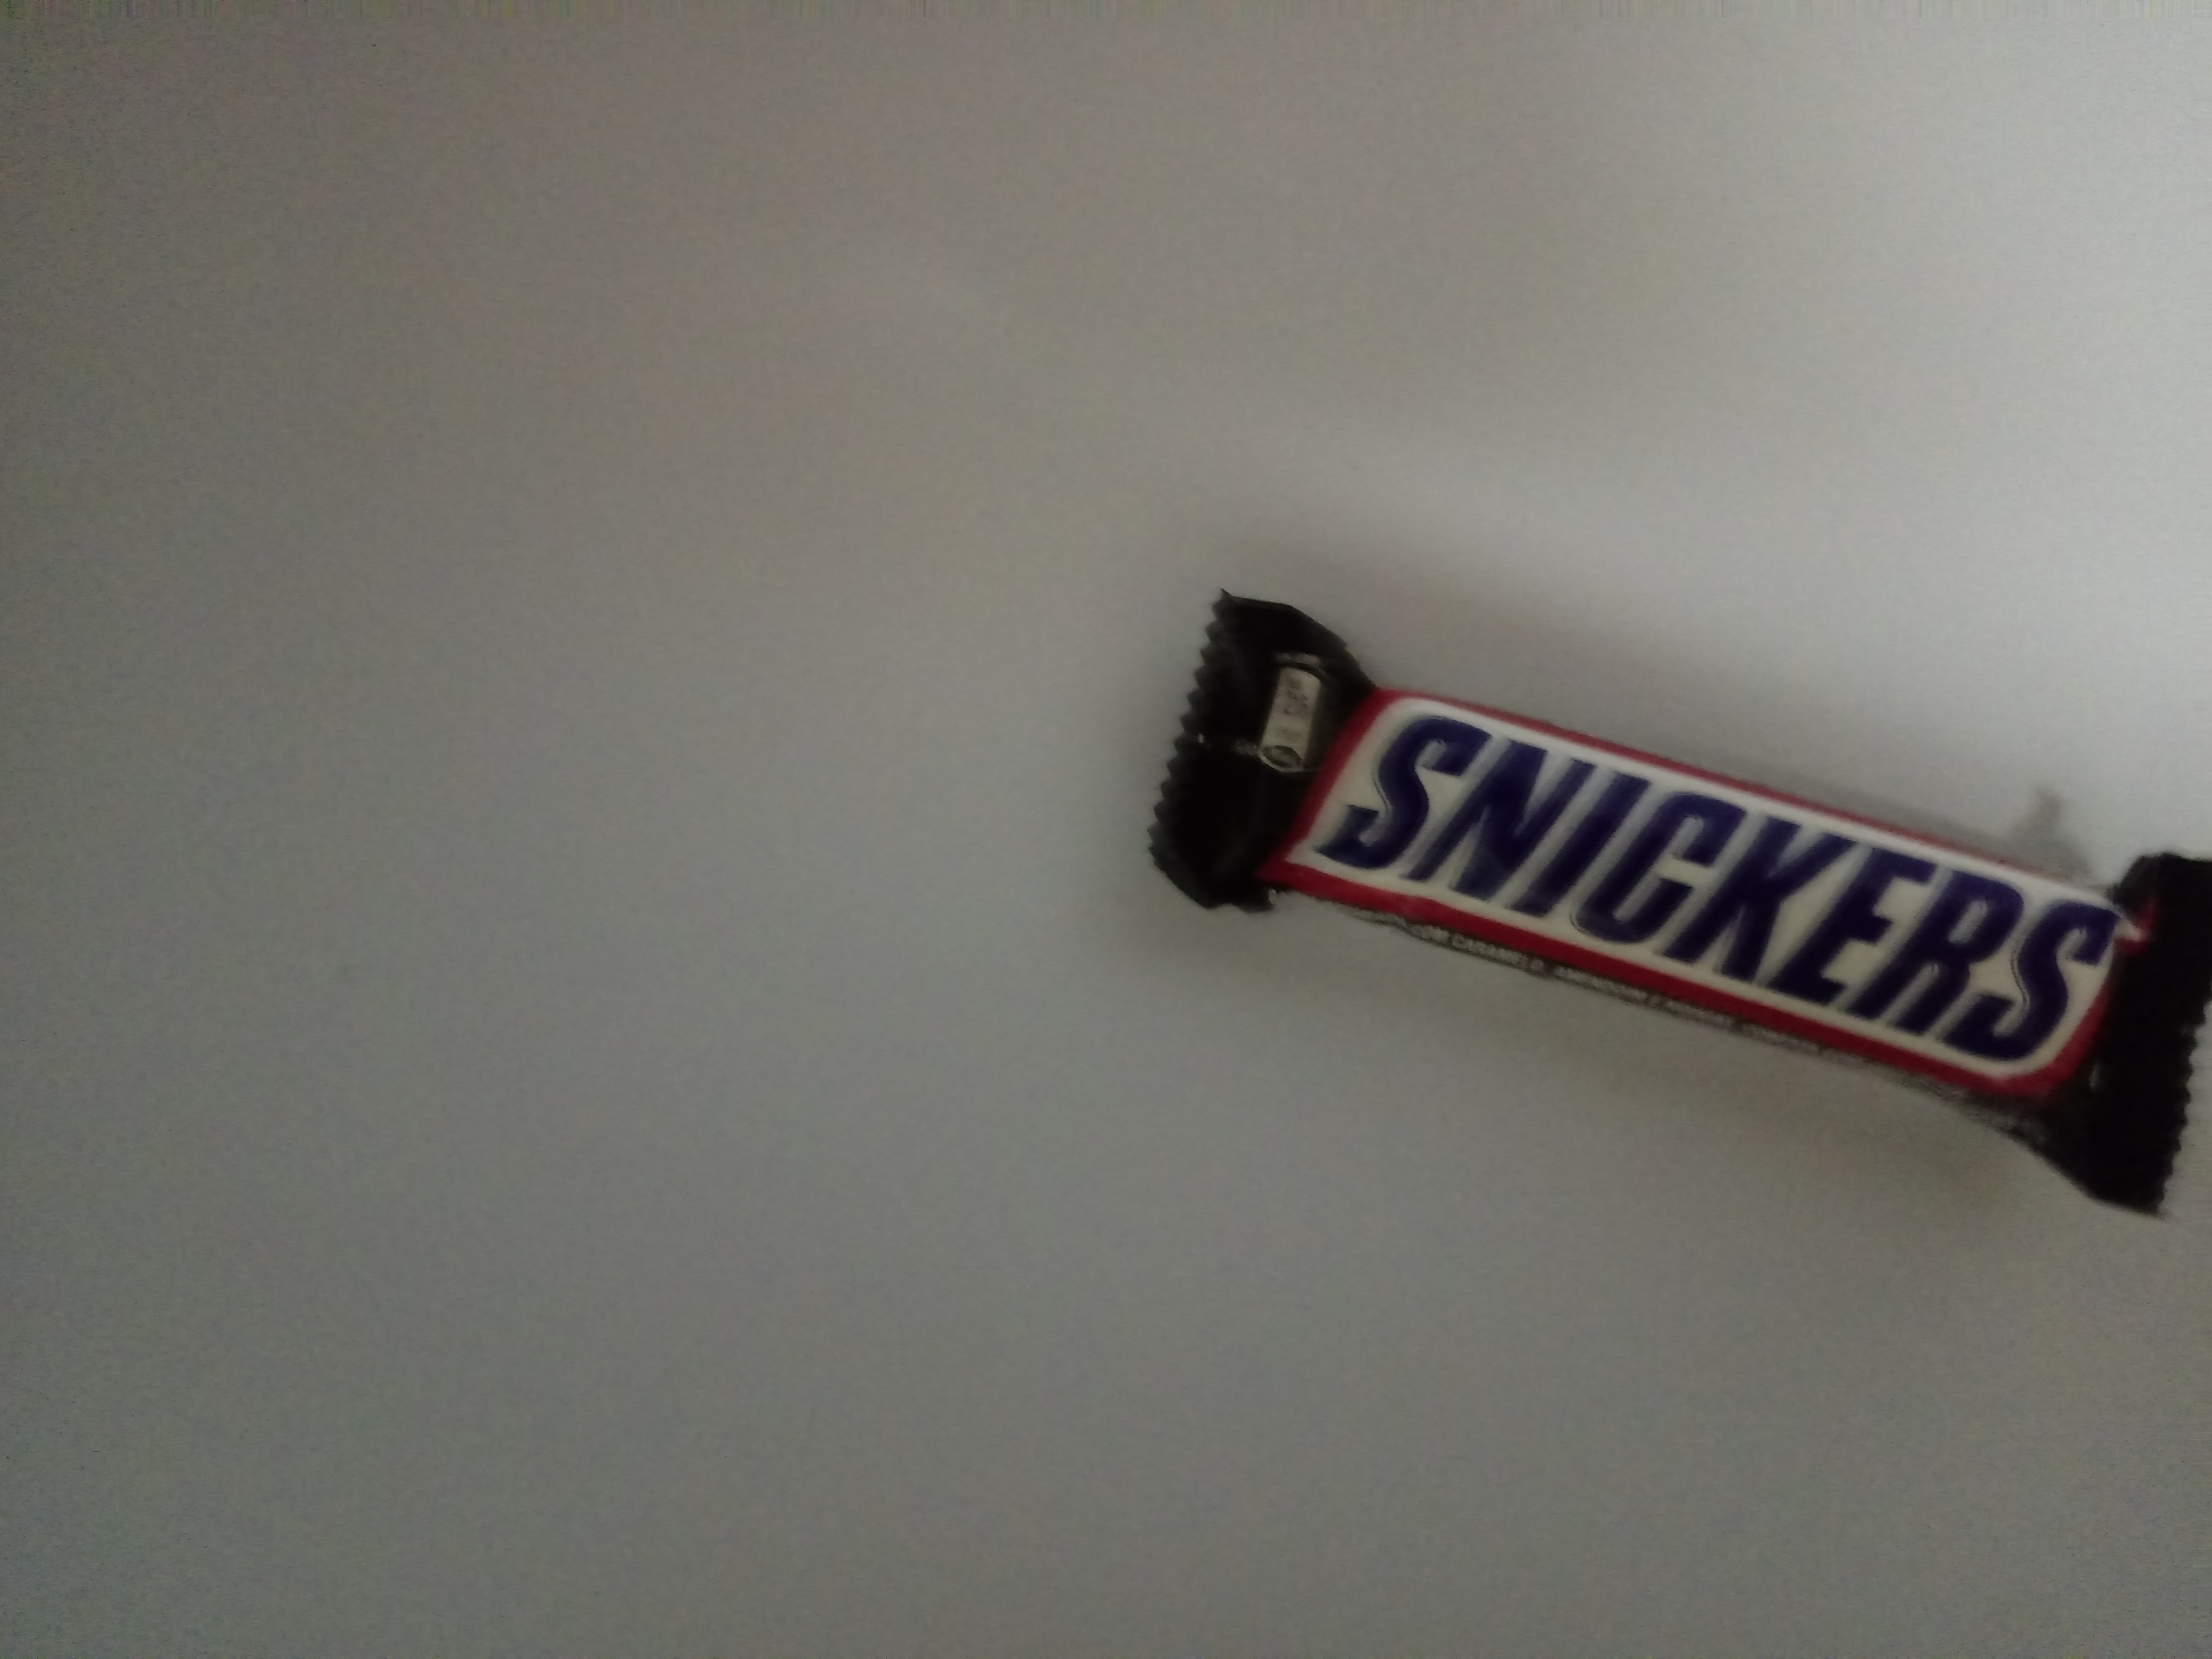snickers: (1130, 568, 2212, 1241)
